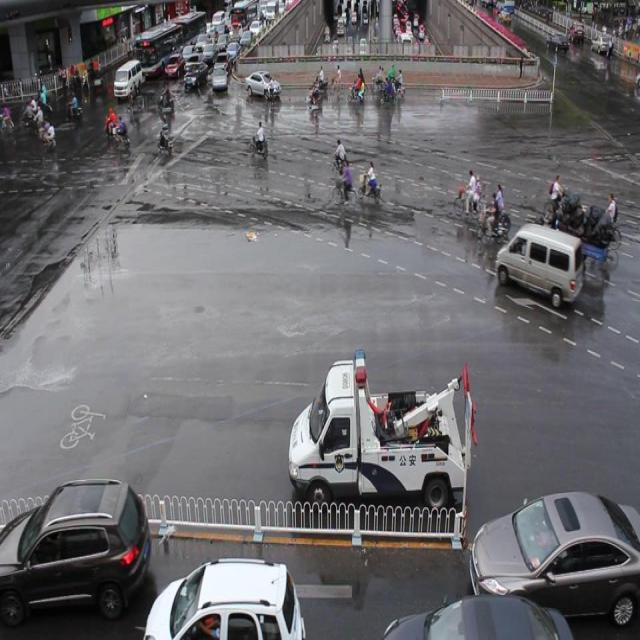bus: (287, 352, 473, 518)
car: (470, 491, 640, 622), (0, 480, 150, 622), (144, 554, 302, 640), (382, 591, 572, 640), (245, 72, 280, 101)
truck: (495, 220, 581, 304)
